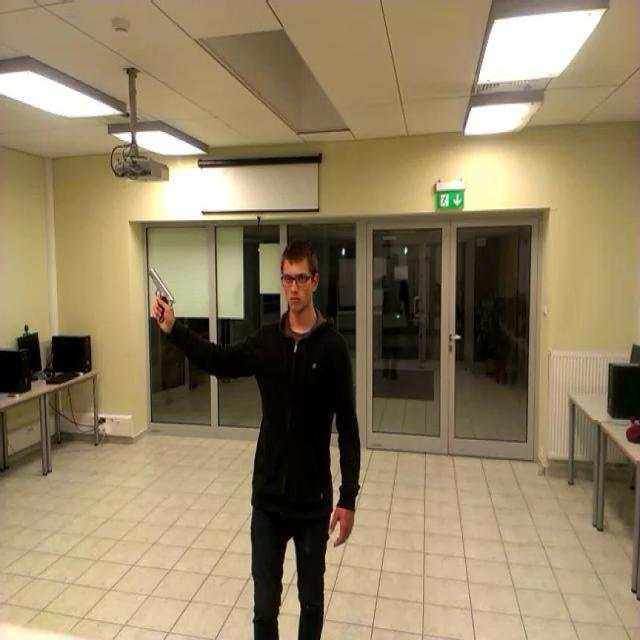pistol: (148, 266, 173, 322)
